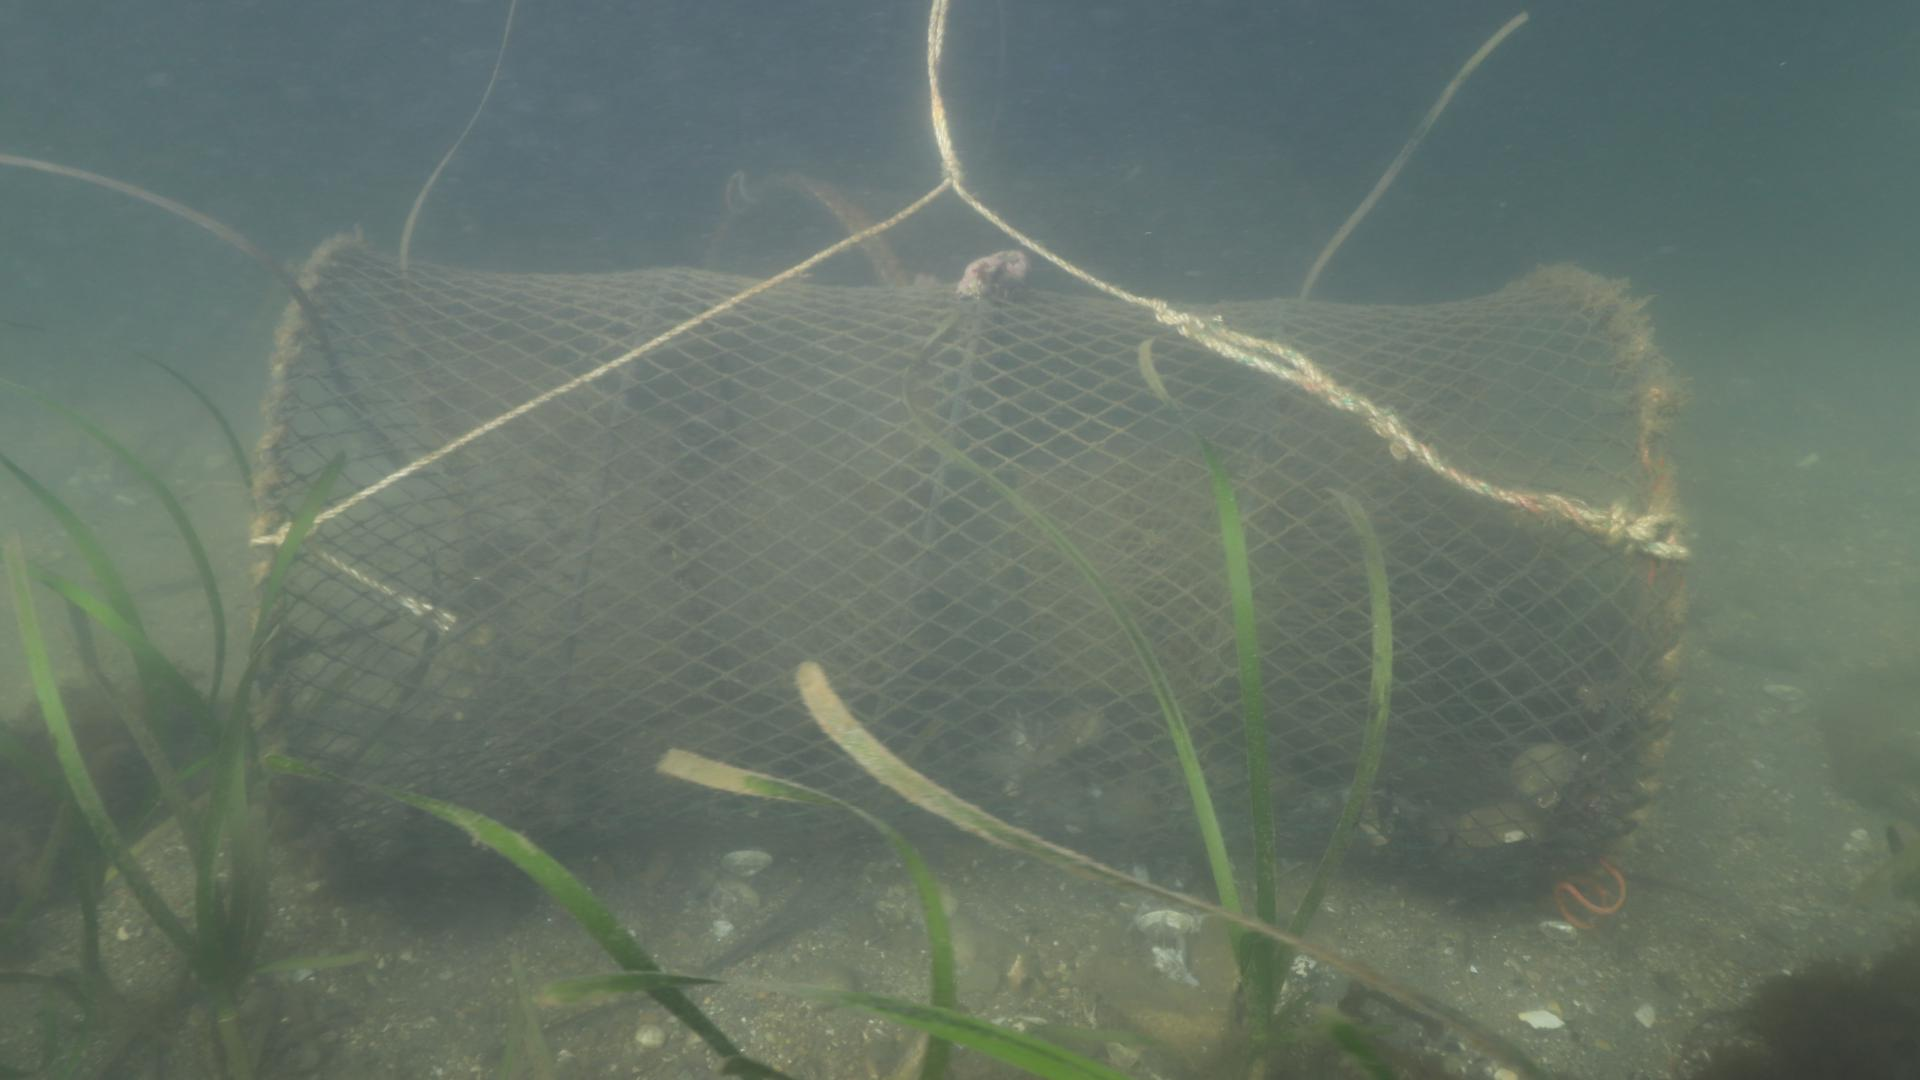bundle of ropes: (248, 0, 1691, 630)
spring fish trap: (251, 229, 1687, 905)
